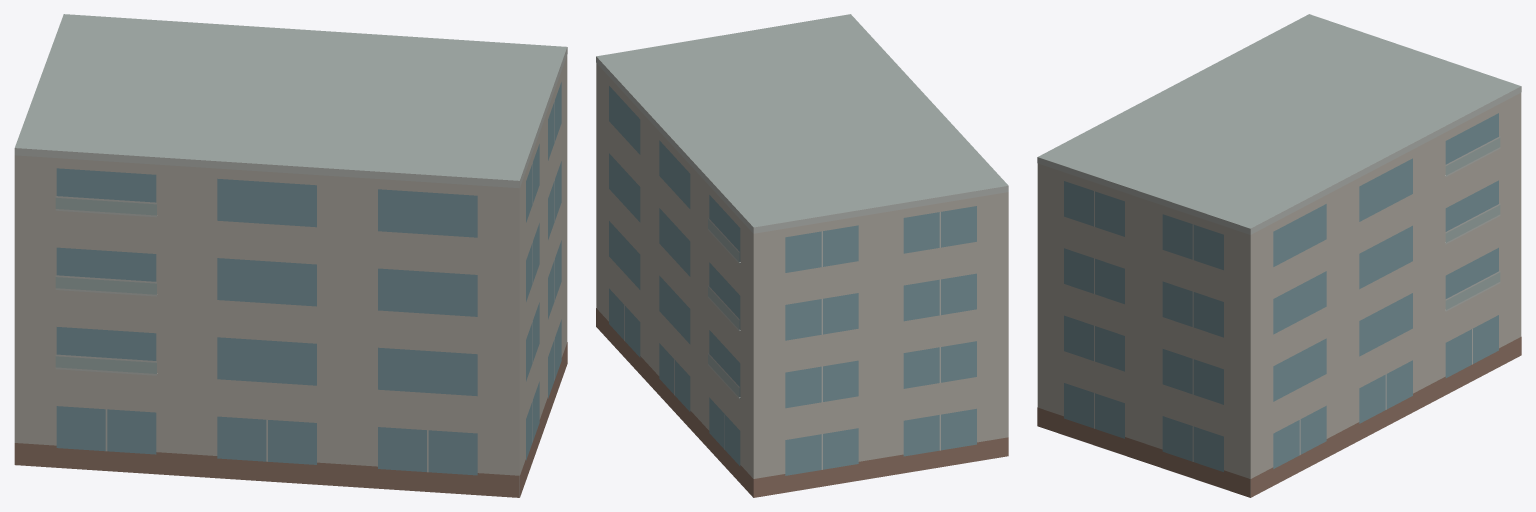
The model's file is survey-upis-32808827.glb.
3 renders of one model, left to right at view 1: azimuth 30°, elevation 25°; view 2: azimuth 150°, elevation 25°; view 3: azimuth 270°, elevation 25°, orthographic. The views are drawn at different scales.
Visible parts, largest first — view 1: survey-upis-32808827.tmp; view 2: survey-upis-32808827.tmp; view 3: survey-upis-32808827.tmp.
Boxes of the visible parts, box(x1,y1,x2,y2) form: survey-upis-32808827.tmp: box(14, 14, 567, 497); survey-upis-32808827.tmp: box(596, 14, 1008, 497); survey-upis-32808827.tmp: box(1037, 14, 1521, 497).
Bounding box in the file's own units: 17.97 × 10.5 × 17.12.
